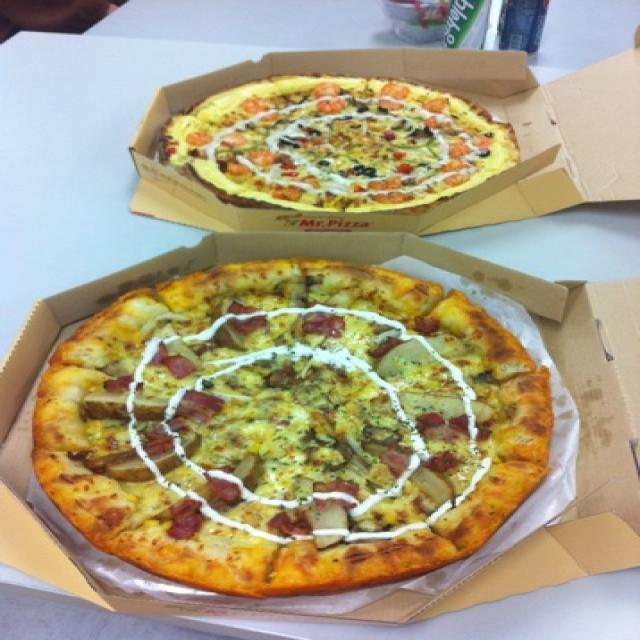Wet Waste: (24, 250, 562, 602), (158, 68, 531, 215)
